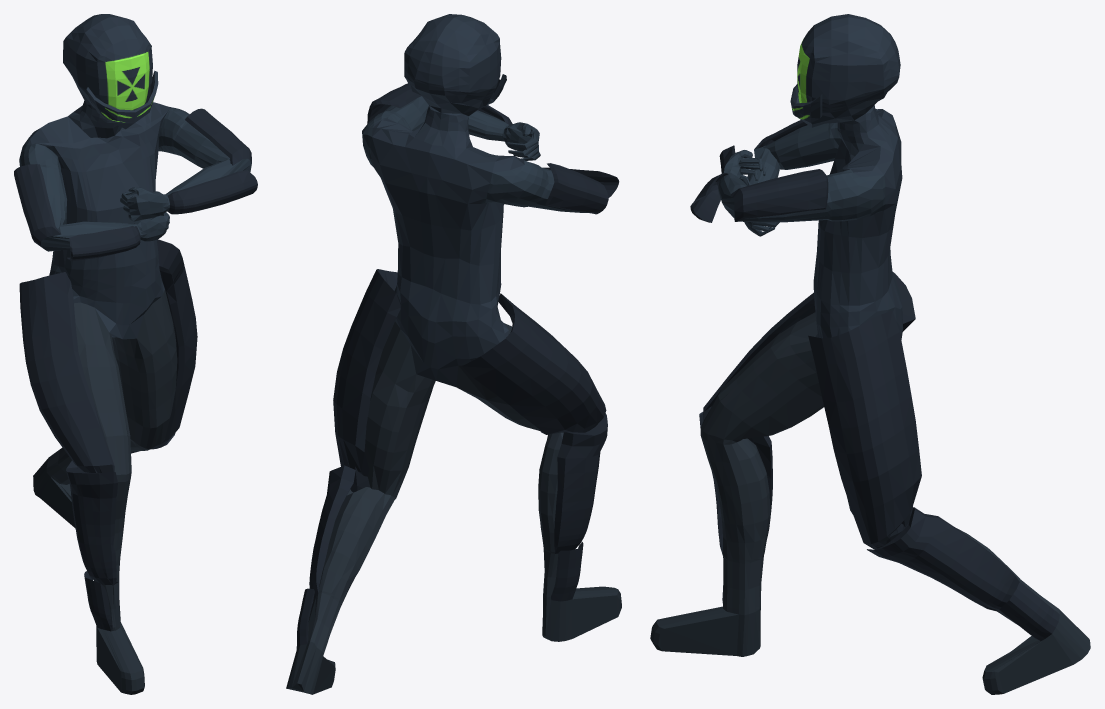
File: Bastion_WL_000014.obj
The picture shows the model from 3 angles, left to right: view 1: azimuth 30°, elevation 25°; view 2: azimuth 150°, elevation 25°; view 3: azimuth 270°, elevation 25°; orthographic projection. The views are drawn at different scales.
Parts seen in each view (by area): view 1: Cube.002; view 2: Cube.002; view 3: Cube.002.
Boxes of the visible parts, left/top/right/bottom form: Cube.002: left=14, top=14, right=257, bottom=694; Cube.002: left=286, top=14, right=621, bottom=694; Cube.002: left=650, top=14, right=1090, bottom=694.
Size of the model in its own units: 1.3 by 3.59 by 2.16.
